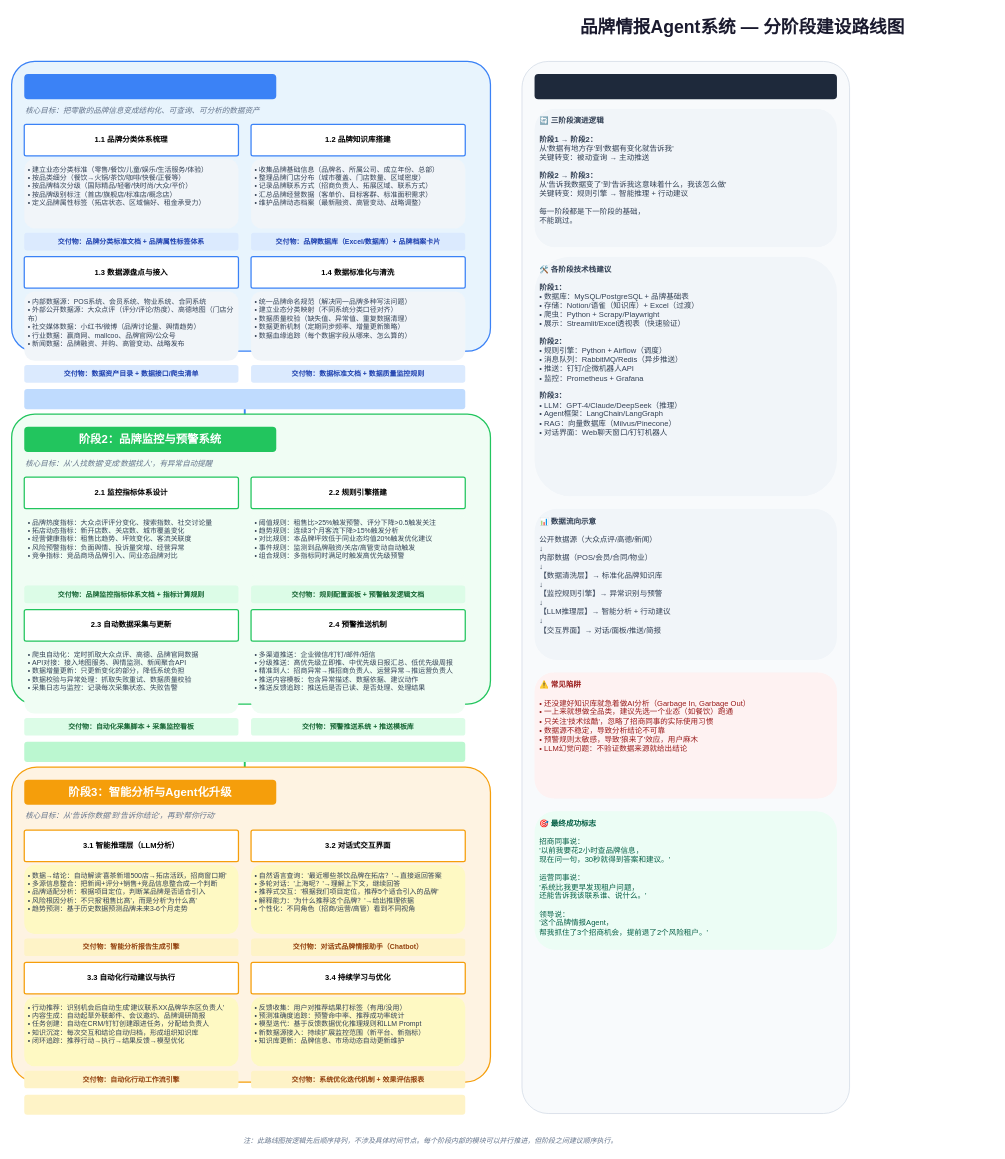
The diagram is 1005 pixels wide and 1159 high, and some of its shapes have lost their labels. The shapes that lost their labels are listed below. From the top down, each one's box as (x1, y1, x2, y2) in pixels, then its label:
(24, 74, 276, 99): 阶段1：品牌知识库与数据基础设施
(534, 74, 837, 99): 💡 关键说明与演进逻辑
(24, 389, 465, 409): ✓ 阶段1完成标志：招商同事能查品牌、能看到数据、信息不再碎片化
(24, 742, 465, 762): ✓ 阶段2完成标志：系统能自动发现品牌异常并推送给对的人，不需要人每天盯着
(24, 1094, 465, 1114): ✓ 阶段3完成标志：系统像助手一样能对话、能推理、能建议、能行动——真正的Agent
